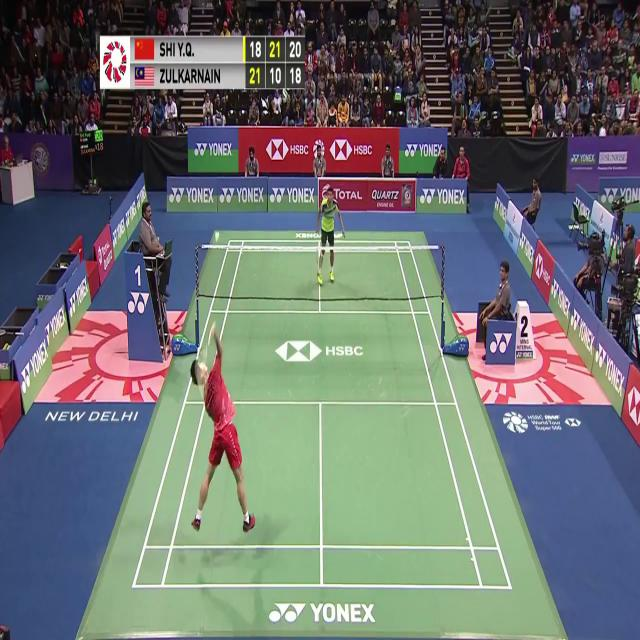Shuttlecock: (213, 233, 220, 245)
